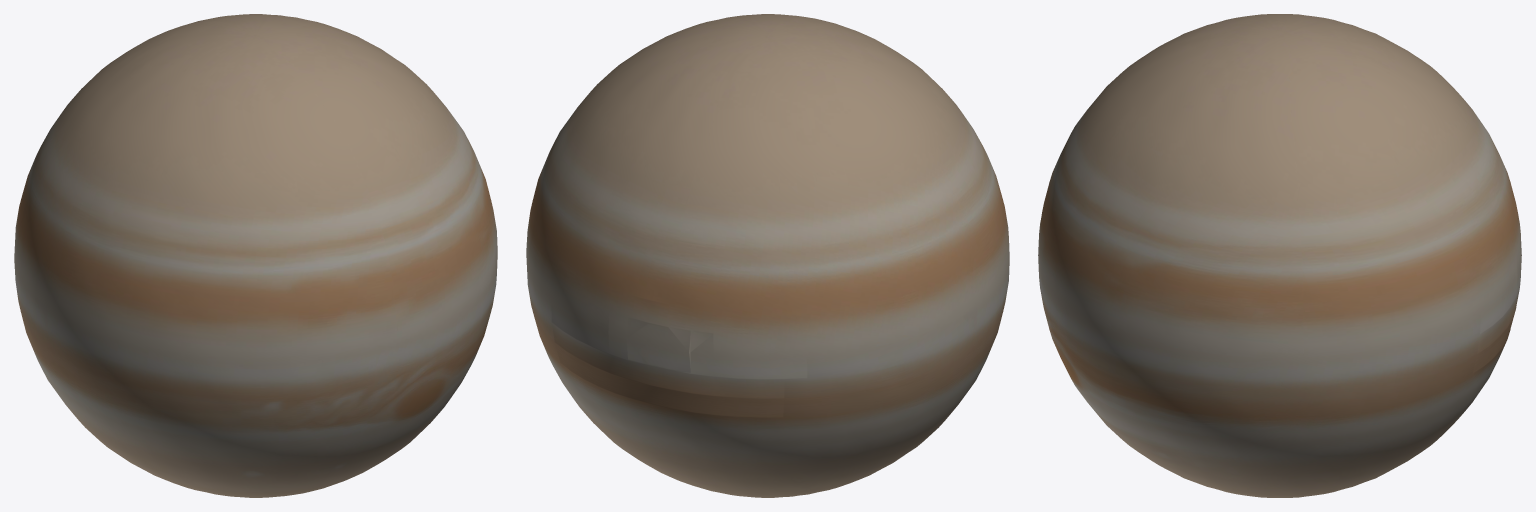
Rendered from jupiter-smooth.glb.
3 renders of one model, left to right at view 1: azimuth 30°, elevation 25°; view 2: azimuth 150°, elevation 25°; view 3: azimuth 270°, elevation 25°, orthographic.
Visible parts, largest first — view 1: Photoreal Smooth Jupiter; view 2: Photoreal Smooth Jupiter; view 3: Photoreal Smooth Jupiter.
Boxes of the visible parts, left/top/right/bottom form: Photoreal Smooth Jupiter: left=14, top=14, right=497, bottom=497; Photoreal Smooth Jupiter: left=526, top=14, right=1009, bottom=497; Photoreal Smooth Jupiter: left=1038, top=14, right=1521, bottom=497.
Bounding box in the file's own units: 0.9941 × 0.998 × 0.9941.
Materials: 1 (1 with a texture image).
